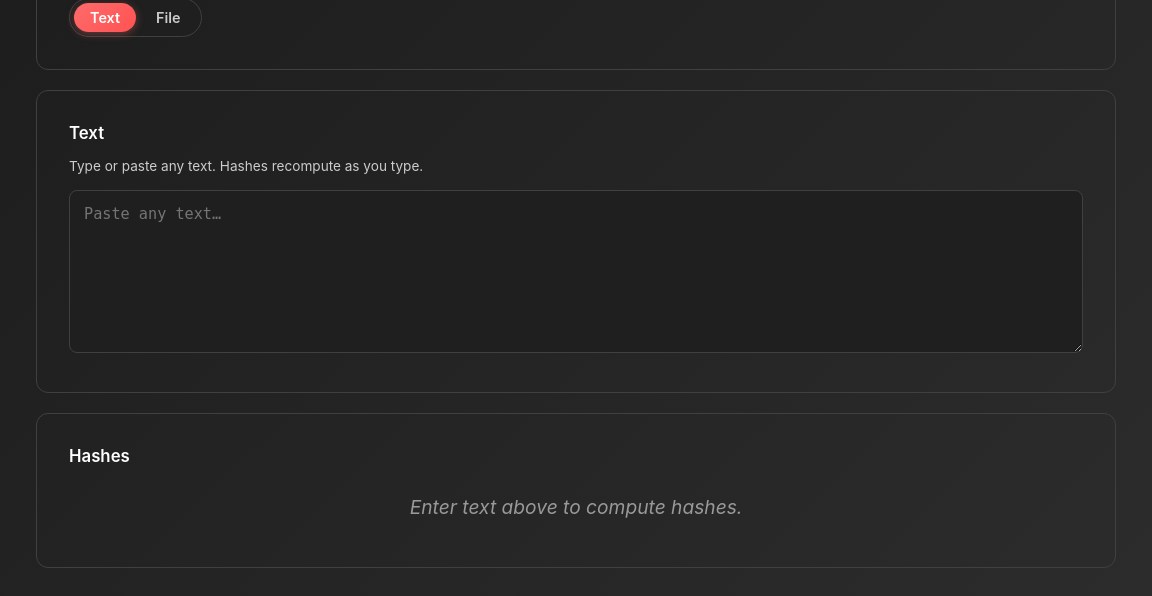
Test: <HashGenerator /> › Clear wipes input and result
(page scrolled)
Type "abc" into the text box named "text to hash" at (576, 271), box left=69, top=190, right=1083, bottom=353
(page scrolled)
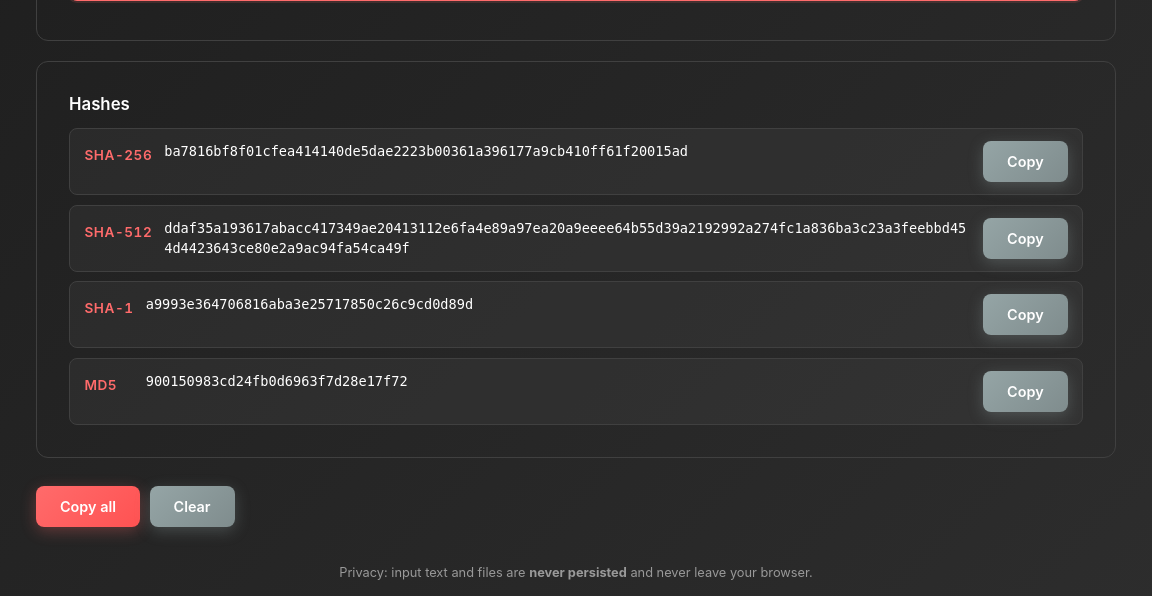
Expected: the text "ba7816bf8f01cfea414140de5dae2223b00361a396177a9cb410ff61f20015ad" is shown, left=164, top=143, right=688, bottom=159
Click the button "Clear" at (192, 506), box left=150, top=486, right=235, bottom=527
(page scrolled)
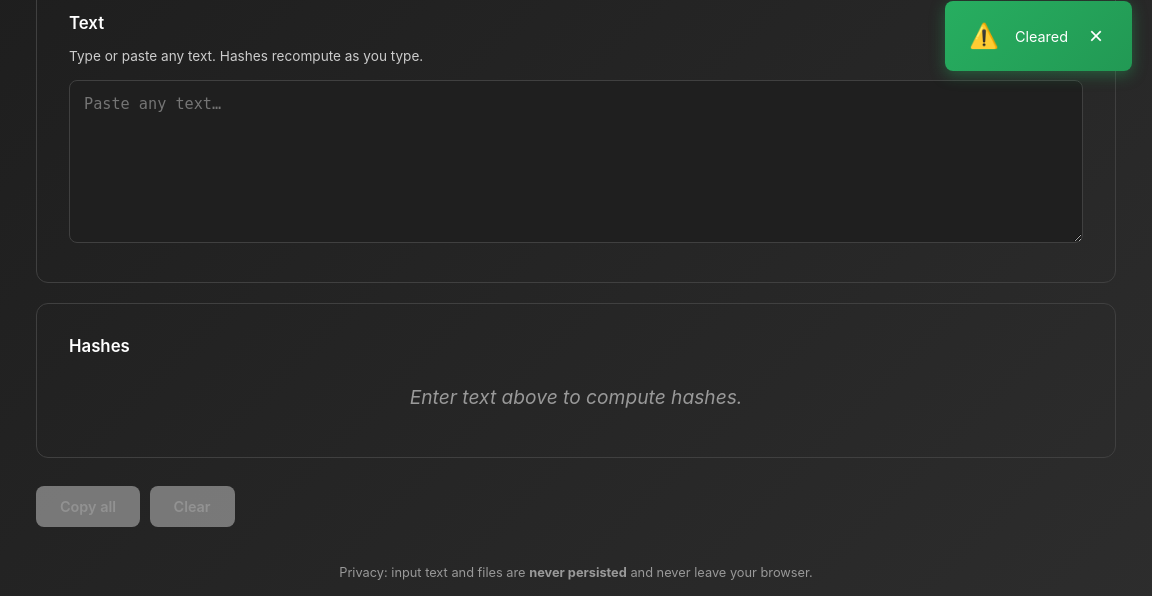
Expected: the text "ba7816bf8f01cfea414140de5dae2223b00361a396177a9cb410ff61f20015ad" is gone
Expected: the text box named "text to hash" is empty, left=69, top=80, right=1083, bottom=243
